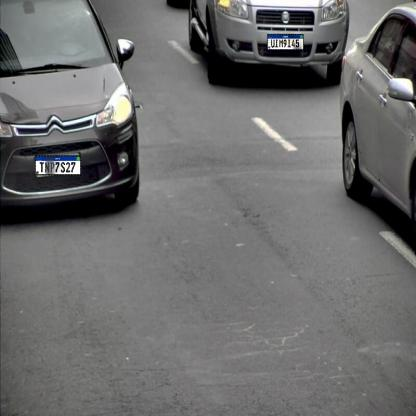PlacaM: (35, 155, 81, 176), (267, 34, 304, 50)
